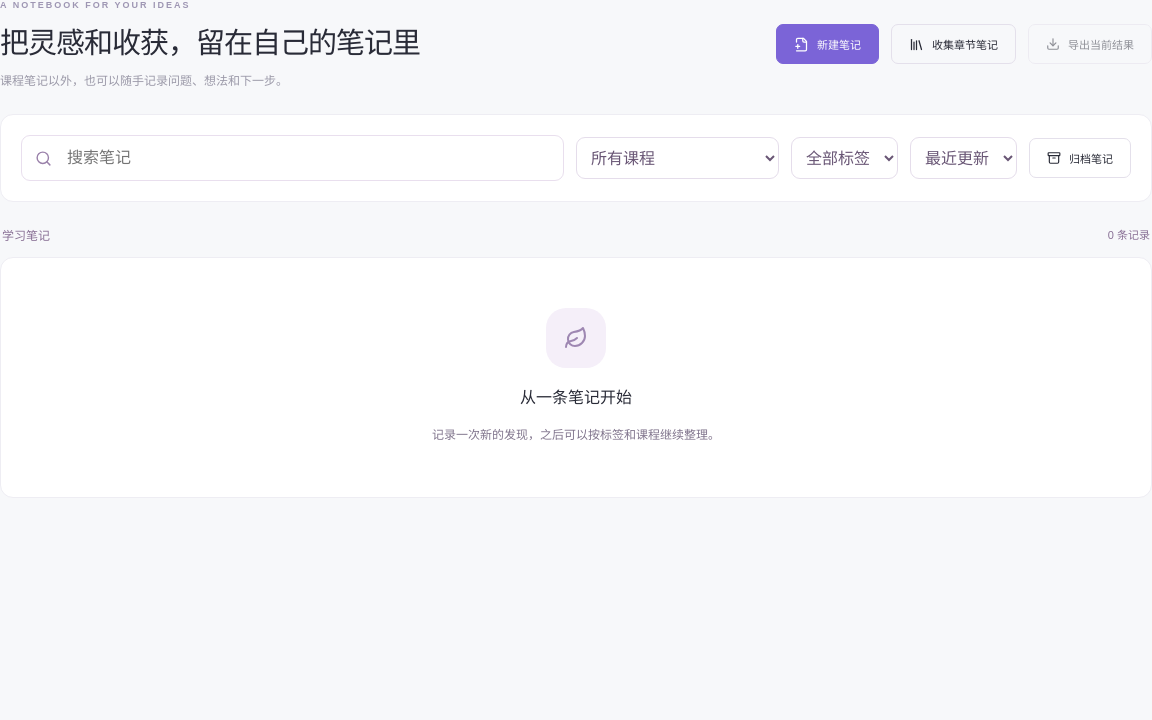
Test: collects chapter notes once while retaining their originals
The image size is (1152, 720).
Click the button "收集章节笔记": (954, 44) 891,24 -> 1016,64
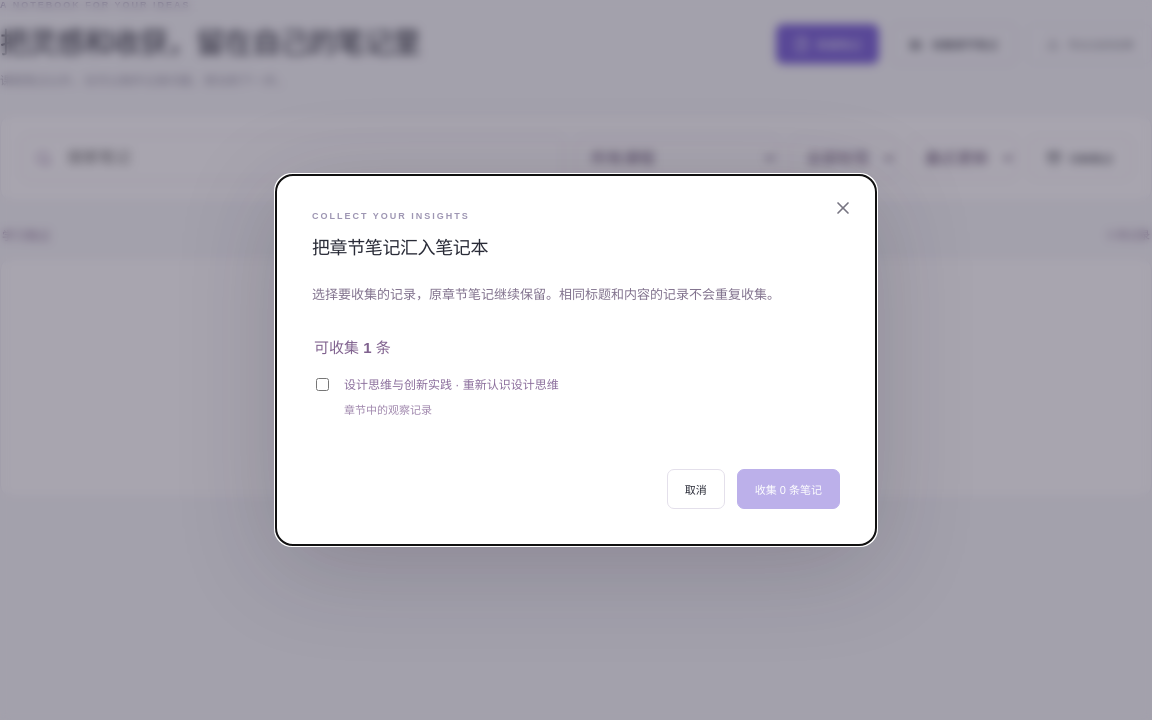
Click the checkbox: (322, 384) 316,378 -> 329,391
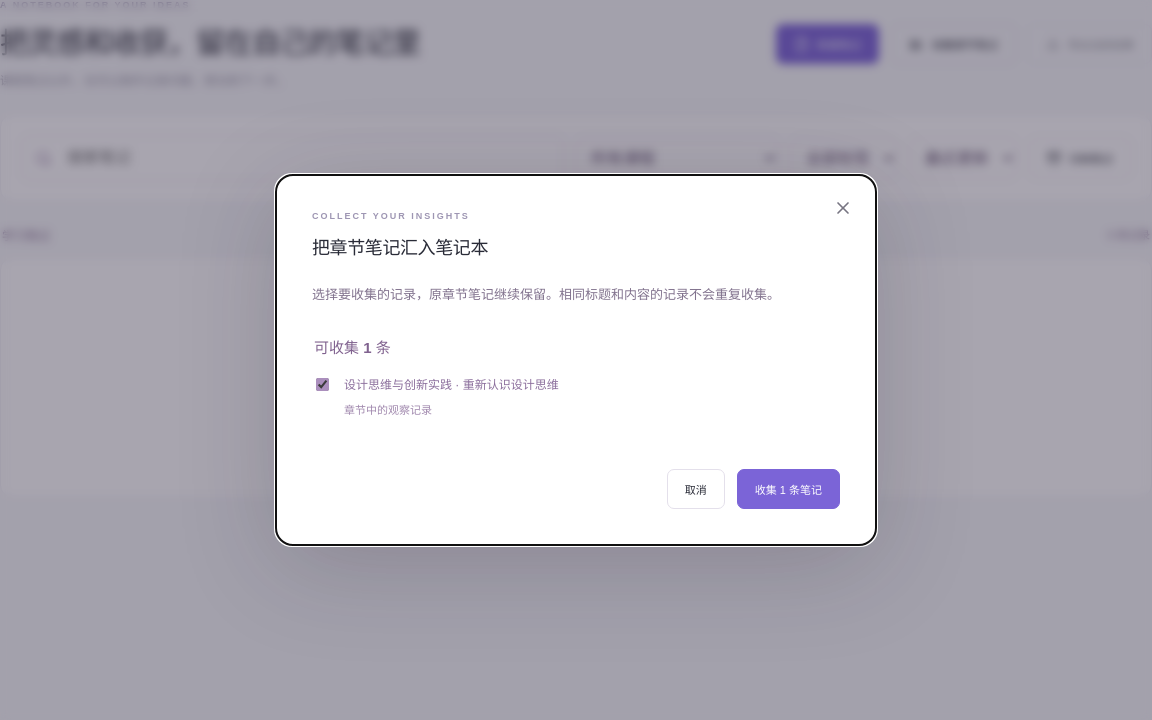
Click the button "收集 1 条笔记": (788, 489) 737,469 -> 840,509
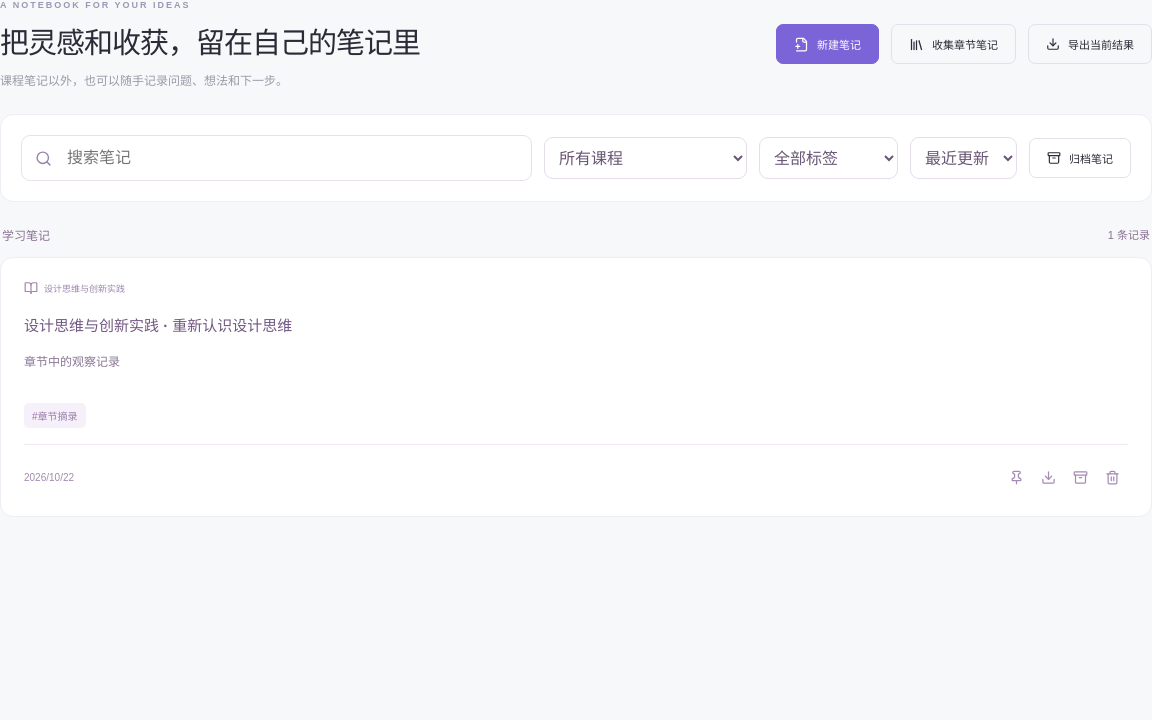
Now the text "章节中的观察记录" is shown, box 24,354 -> 120,368
Click the button "收集章节笔记": (954, 44) 891,24 -> 1016,64
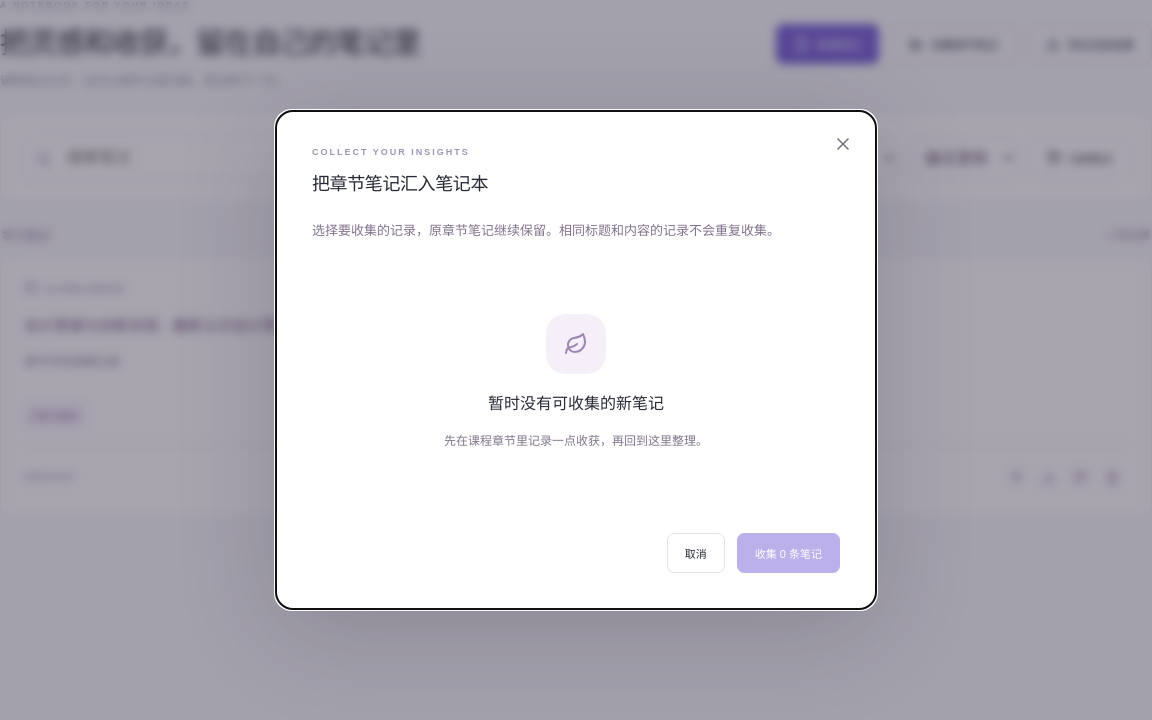
Now the heading "暂时没有可收集的新笔记" is shown, box 488,390 -> 664,414
